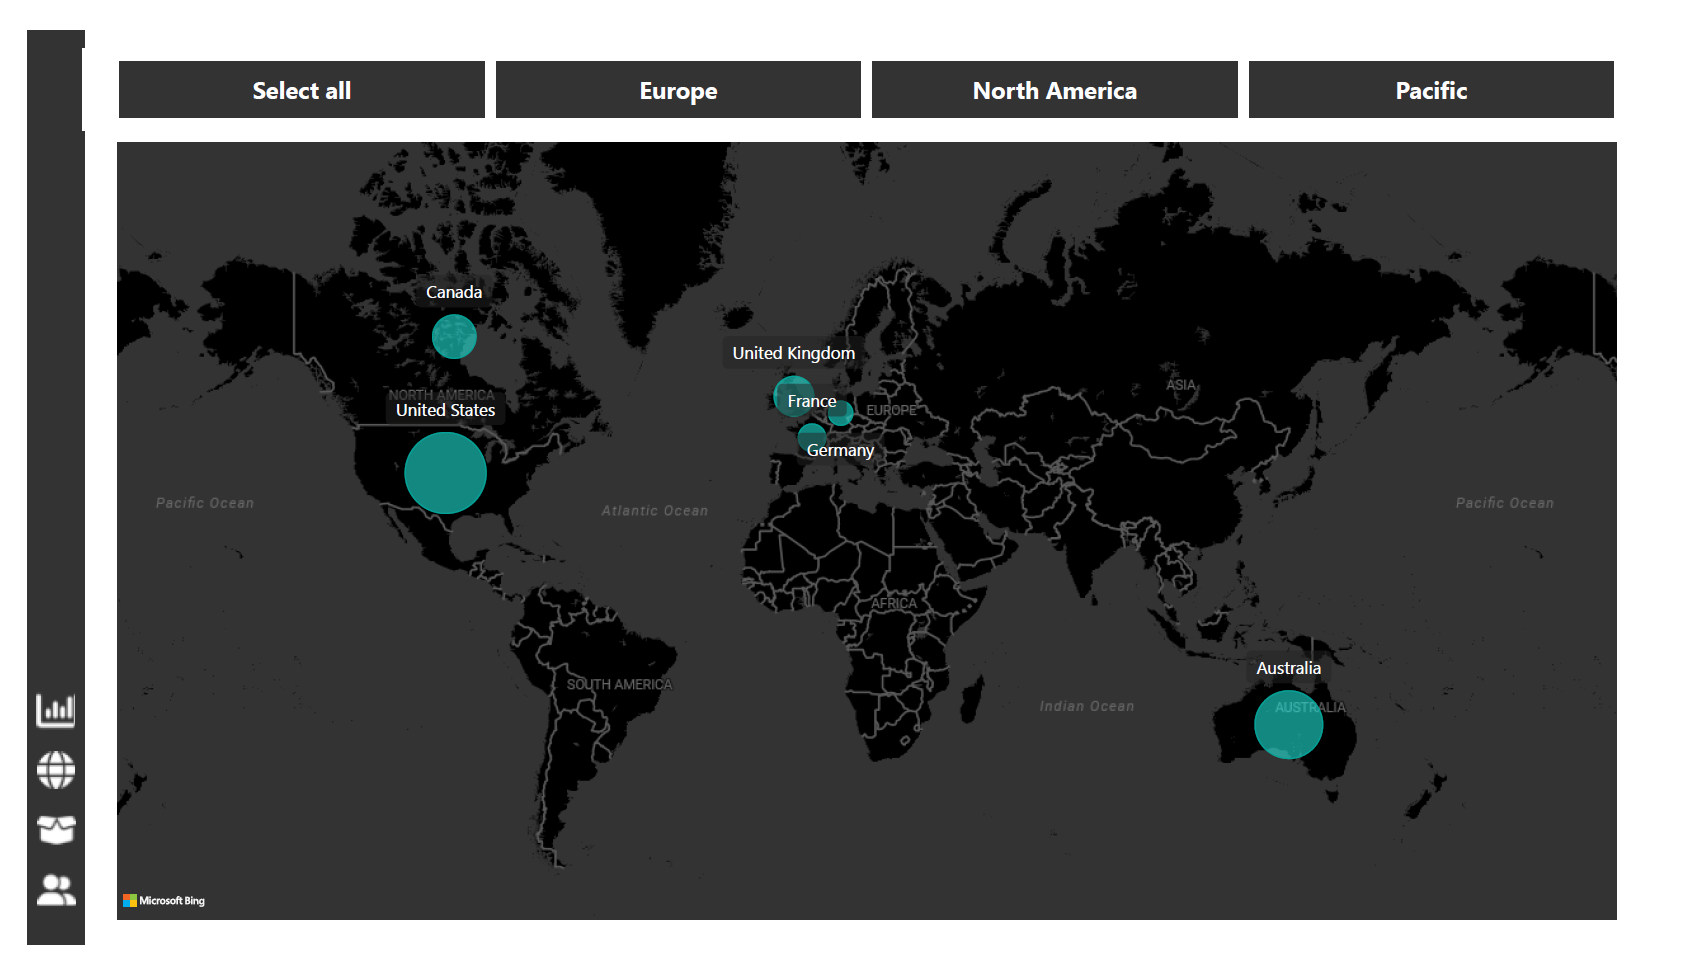

This screenshot's page, from the dashboard's own definition file:
{"tool":"powerbi","page":{"name":"Map","canvas":[1280,720],"ordinal":1},"visuals":[{"type":"shape","box":[0,0,45,720],"z":0},{"type":"actionButton","box":[2.5,516.7,45.6,37.8],"z":0,"group":"g1"},{"type":"actionButton","box":[3.3,563.4,45.6,37.8],"z":1000,"group":"g1"},{"type":"map","fields":{"Category":["Territory Lookup.Country"],"Size":["Measure Table.Total Orders"]},"box":[65.6,82.5,1191.3,622.8],"z":1000},{"type":"slicer","fields":{"Values":["Territory Lookup.Continent"]},"box":[43,13.6,1234.3,65.6],"z":2000},{"type":"actionButton","box":[3.3,611.1,45.6,37.8],"z":2000,"group":"g1"},{"type":"actionButton","box":[3.3,657.8,45.6,37.8],"z":3000,"group":"g1"},{"type":"group","id":"g1","title":"Navigation Buttons","box":[2.5,516.7,46.4,178.9],"z":3000}]}

Visuals, with their boxes in screenshot pixels (x1, y1, x2, y2):
shape: [x1=22, y1=35, x2=78, y2=935]
actionButton: [x1=25, y1=681, x2=82, y2=728]
actionButton: [x1=26, y1=739, x2=83, y2=787]
map - Territory Lookup.Country x Measure Table.Total Orders: [x1=104, y1=138, x2=1593, y2=917]
slicer - Territory Lookup.Continent: [x1=76, y1=52, x2=1618, y2=134]
actionButton: [x1=26, y1=799, x2=83, y2=846]
actionButton: [x1=26, y1=858, x2=83, y2=905]
"Navigation Buttons" group: [x1=25, y1=681, x2=83, y2=905]
